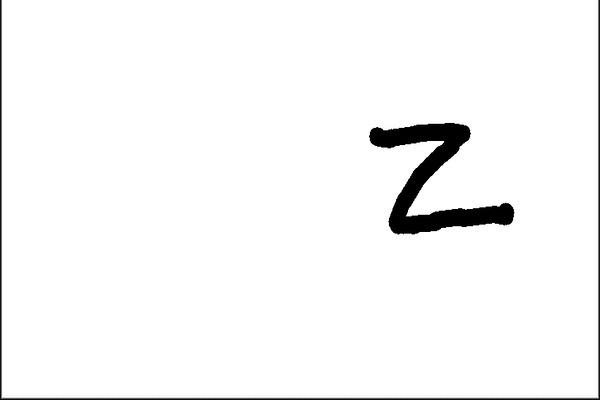Z: (353, 115, 528, 253)
